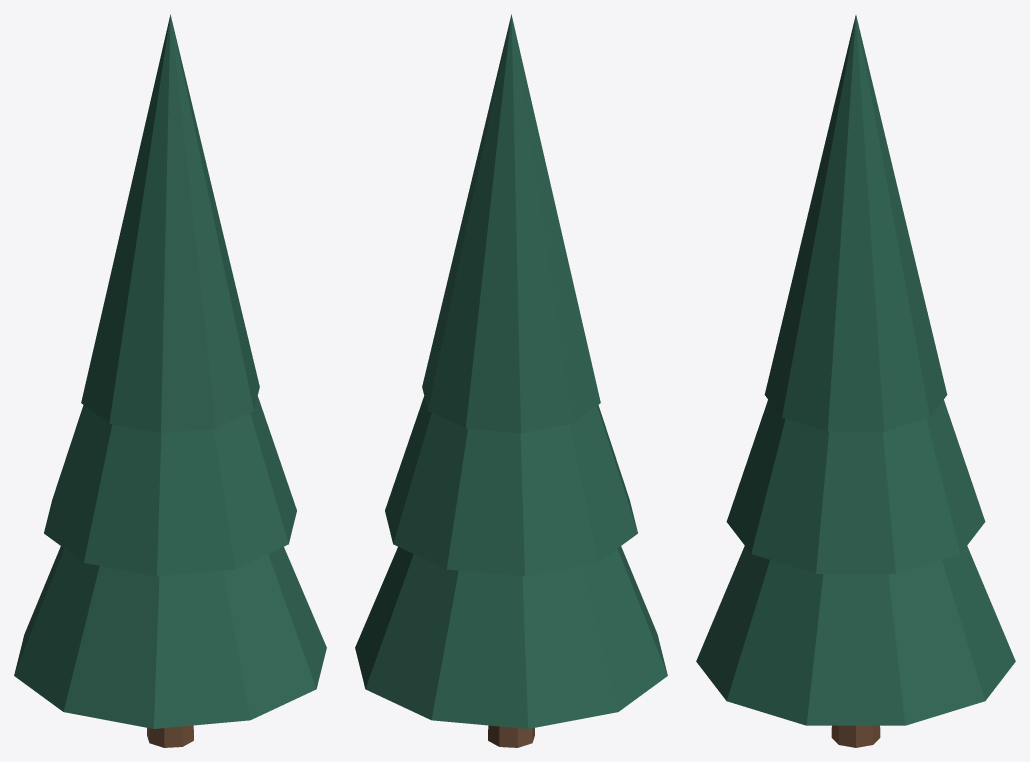
The model's file is nature_pine_tall.glb.
The picture shows the model from 3 angles, left to right: view 1: azimuth 30°, elevation 25°; view 2: azimuth 150°, elevation 25°; view 3: azimuth 270°, elevation 25°; orthographic projection.
Parts seen in each view (by area): view 1: nature_pine_tall; view 2: nature_pine_tall; view 3: nature_pine_tall.
Part boxes in pixels (x1,y1,x2,y2): nature_pine_tall: [14, 14, 326, 747]; nature_pine_tall: [355, 14, 667, 747]; nature_pine_tall: [696, 15, 1015, 747].
Bounding box in the file's own units: 2 × 5.24 × 2.1.
